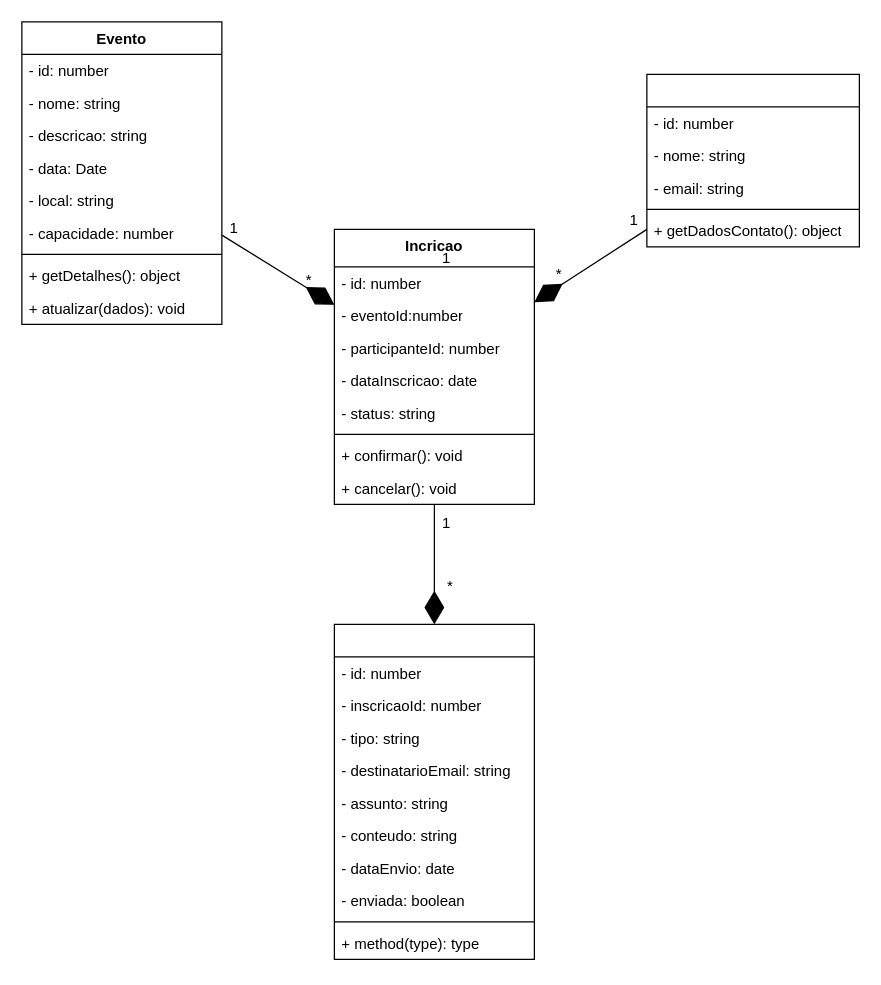
The diagram is 881 pixels wide and 985 high, and some of its shapes have lost their labels. Each missing label, with the box of its shape:
Notificacao: (333, 623, 534, 959)
Participante: (646, 73, 859, 247)
